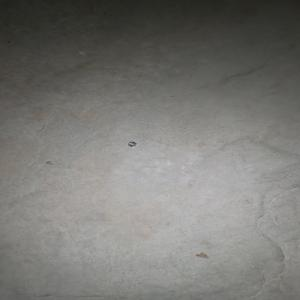Nut: (127, 141, 136, 147)
